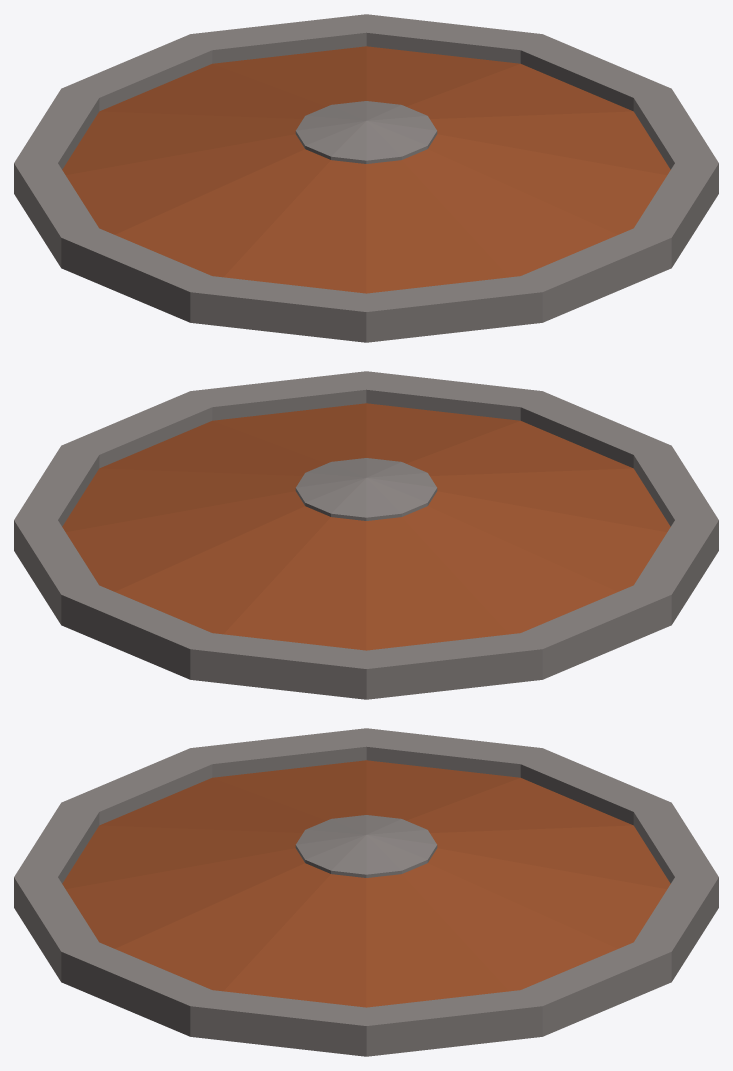
The model's file is shield.fbx.
3 views of the same model, one above another, from view 1: azimuth 30°, elevation 25°; view 2: azimuth 150°, elevation 25°; view 3: azimuth 270°, elevation 25° (orthographic).
Parts seen in each view (by area): view 1: Circle.001, Circle, Circle.002; view 2: Circle.001, Circle, Circle.002; view 3: Circle.001, Circle, Circle.002.
Part boxes in pixels (<box>): Circle.001: <box>62,46,670,293</box>; Circle: <box>14,14,718,342</box>; Circle.002: <box>295,101,437,163</box>; Circle.001: <box>62,403,670,650</box>; Circle: <box>14,371,718,699</box>; Circle.002: <box>295,458,437,520</box>; Circle.001: <box>62,760,670,1007</box>; Circle: <box>14,728,718,1056</box>; Circle.002: <box>295,815,437,877</box>.
Size of the model in its own units: 200 by 22.85 by 200.
